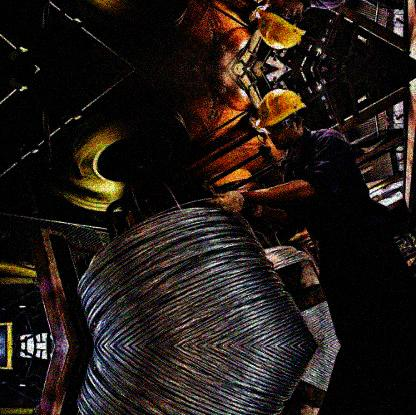helmet: (258, 88, 306, 153), (258, 1, 308, 51)
